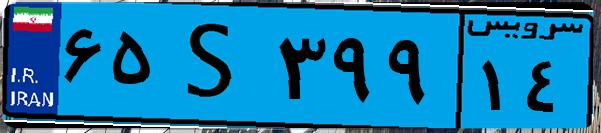1: (475, 38, 525, 113)
3: (270, 28, 330, 110)
4: (525, 38, 570, 115)
5: (110, 28, 158, 98)
6: (57, 26, 110, 100)
9: (385, 28, 445, 110), (330, 28, 385, 110)
S: (158, 12, 270, 120)
